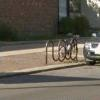Bicycle: (51, 33, 83, 64)
